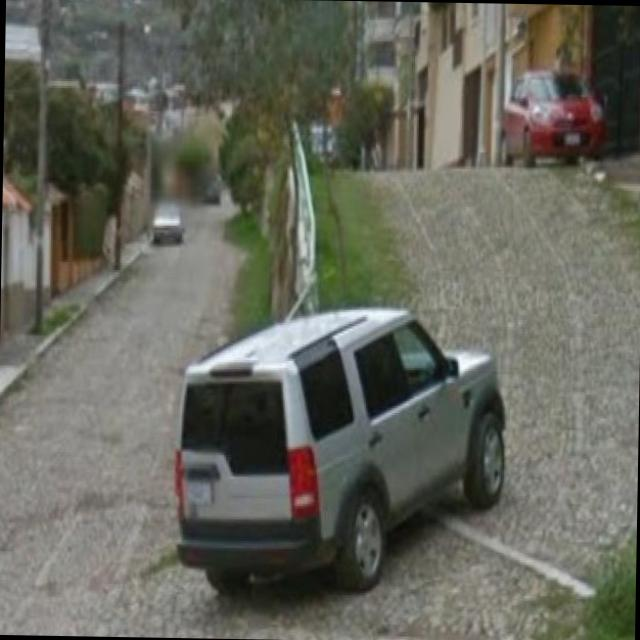car: (176, 310, 509, 600), (500, 64, 610, 168), (148, 196, 187, 242)
